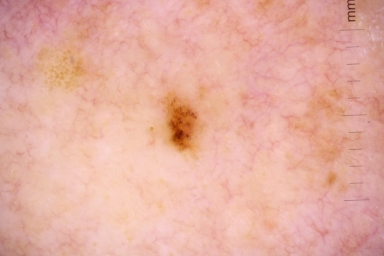nevus: (169, 104, 197, 154)
